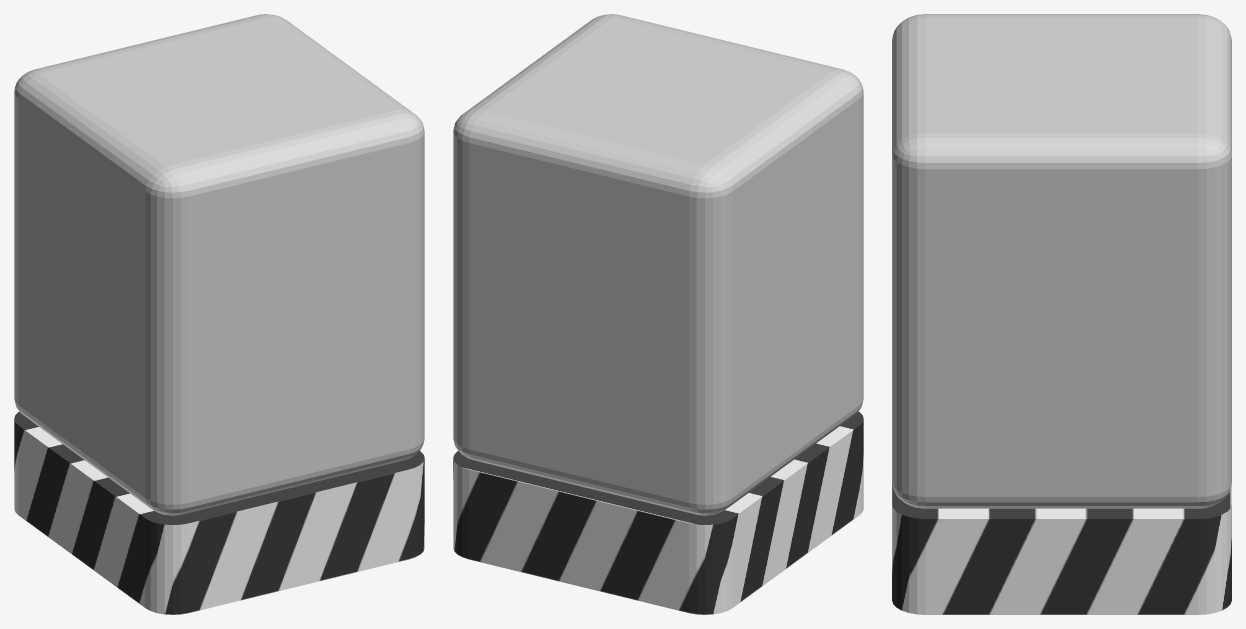
File: UnitMid-Grey.fbx
3 views of the same model, side by side, from view 1: azimuth 30°, elevation 25°; view 2: azimuth 150°, elevation 25°; view 3: azimuth 270°, elevation 25° (orthographic). The views are drawn at different scales.
Visible parts, largest first — view 1: Cube.009, Cube.008; view 2: Cube.009, Cube.008; view 3: Cube.009, Cube.008.
Part boxes in pixels (x1,y1,x2,y2): Cube.009: (14, 14, 424, 515); Cube.008: (14, 411, 424, 614); Cube.009: (453, 14, 863, 515); Cube.008: (453, 411, 863, 614); Cube.009: (892, 14, 1231, 508); Cube.008: (892, 483, 1231, 614).
Size of the model in its own units: 200 by 200 by 304.
Materials: 2 (1 with a texture image).
